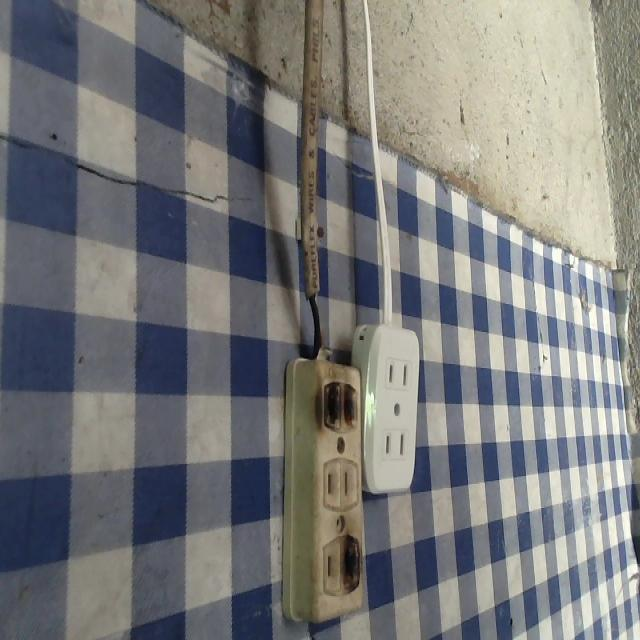-: (314, 377, 363, 431), (338, 533, 366, 596)
